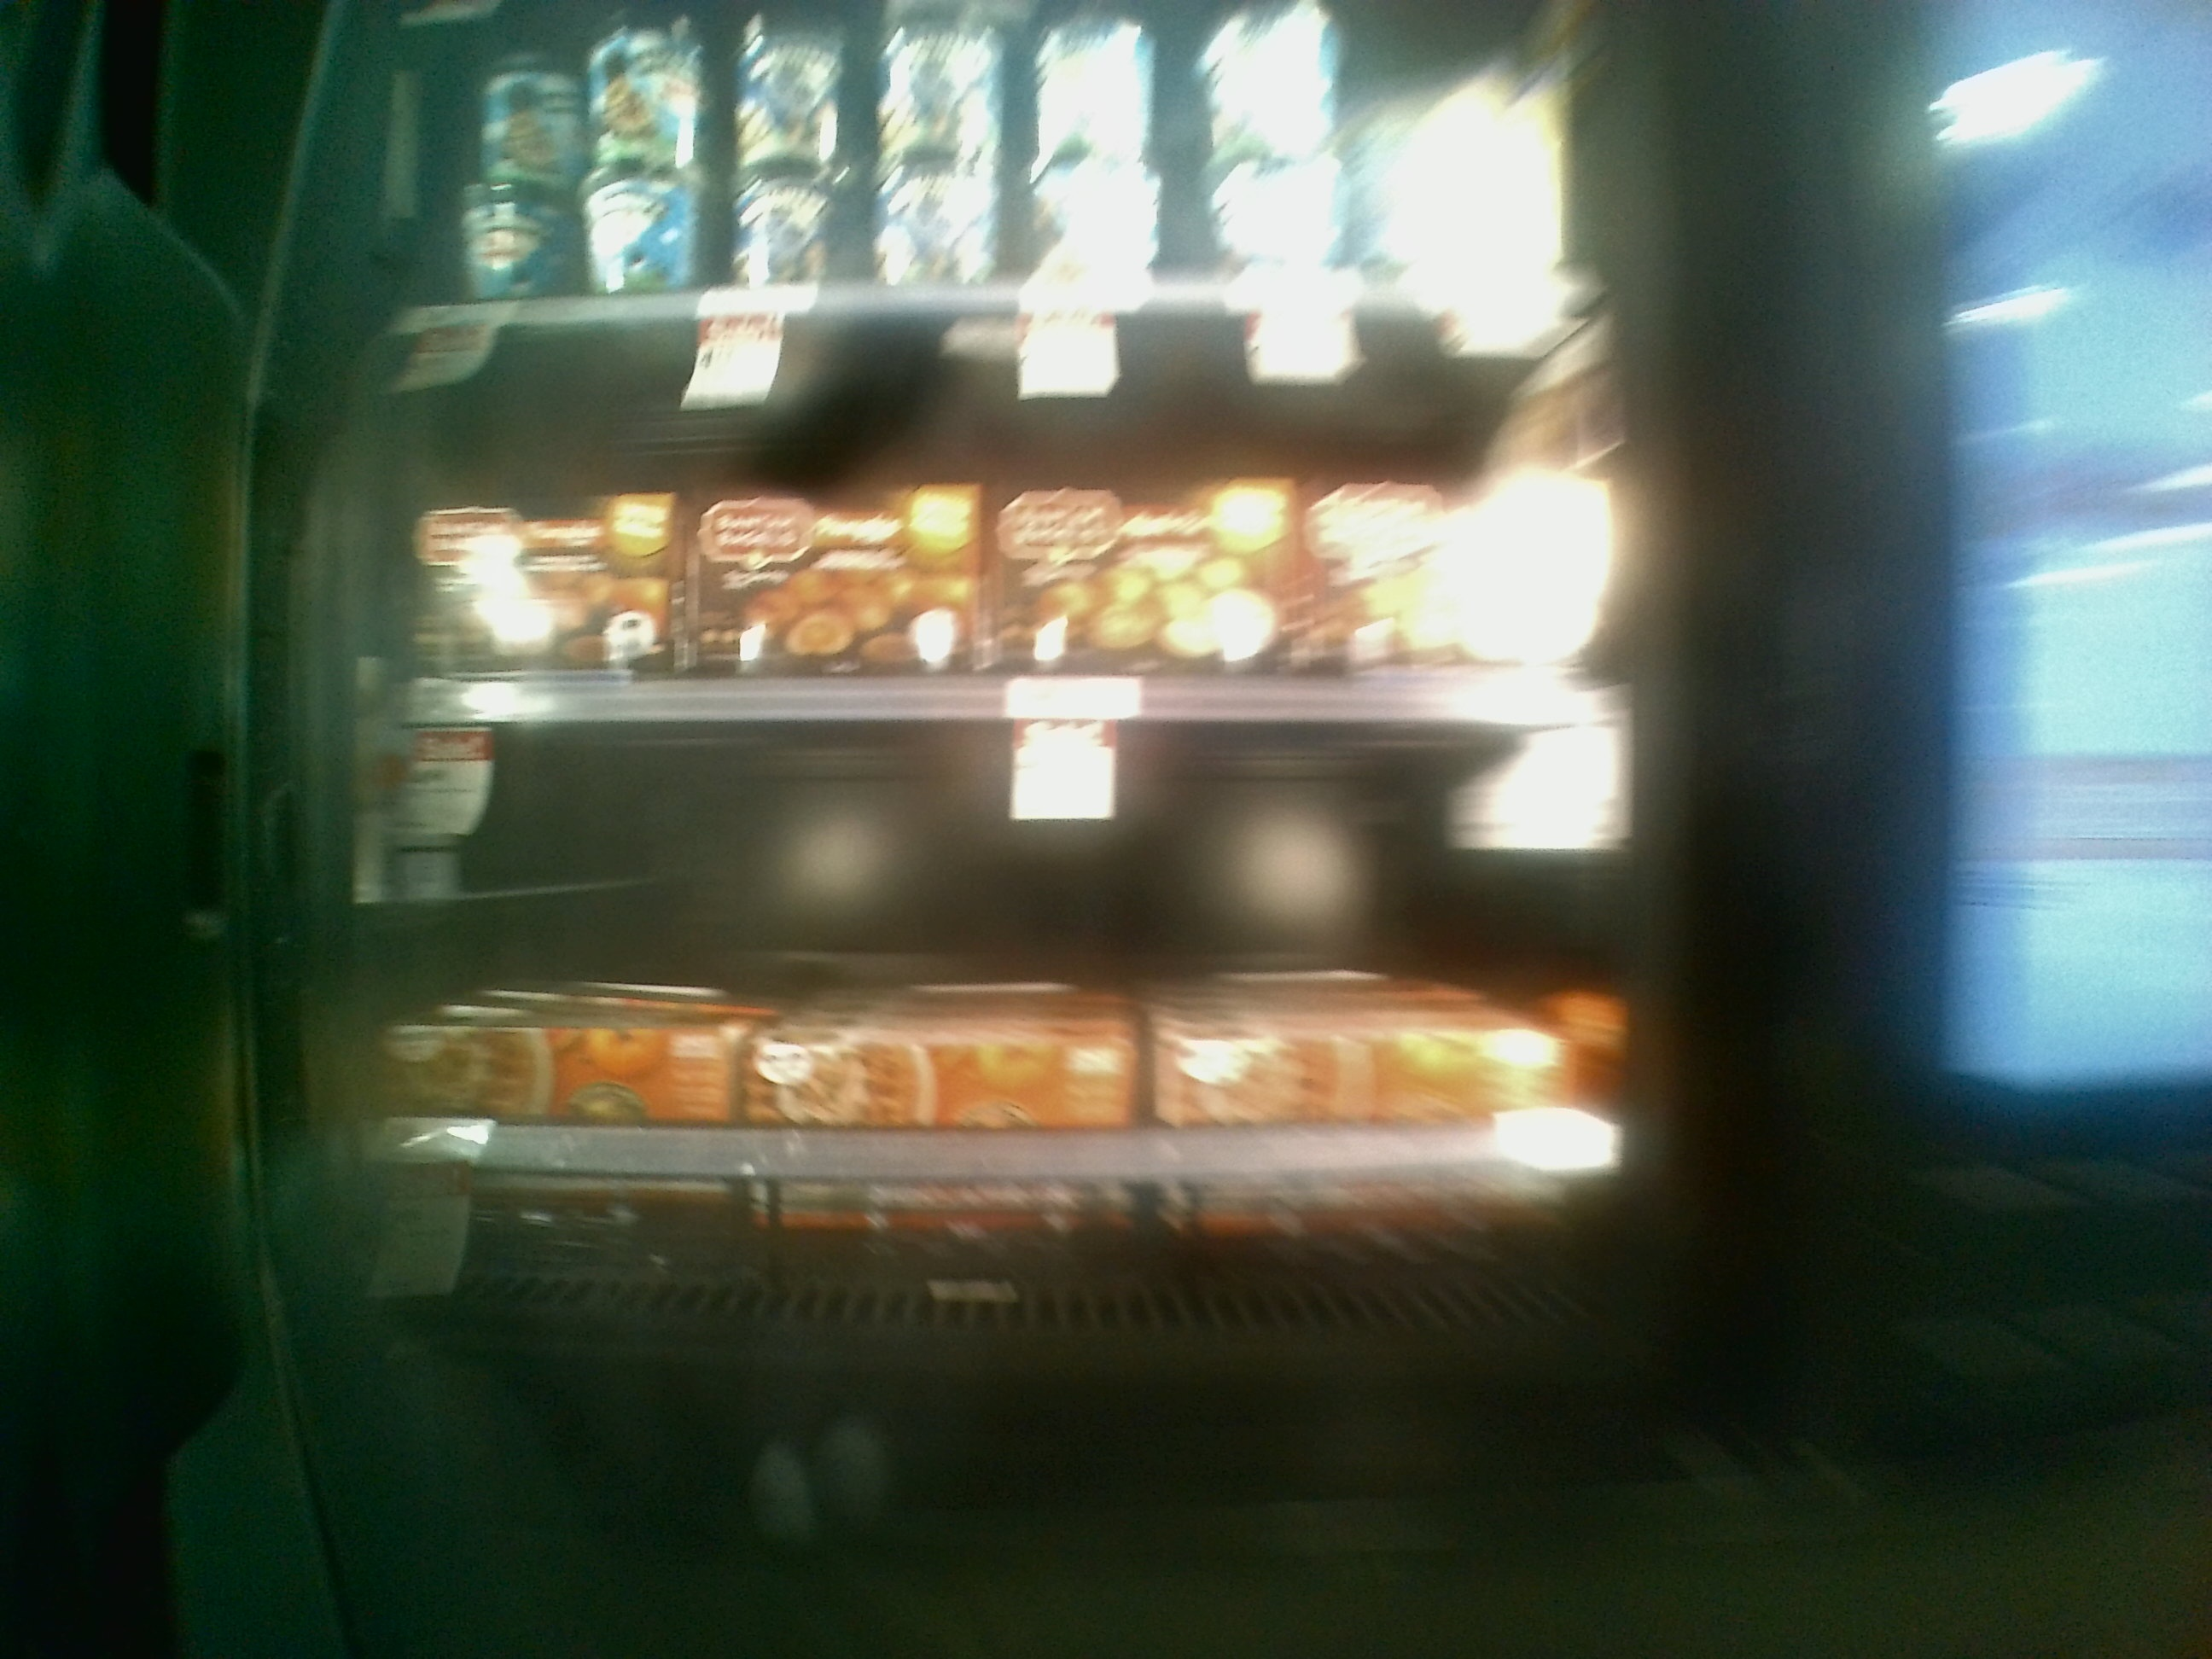shelf: (329, 708, 1641, 1380), (361, 315, 1639, 735)
